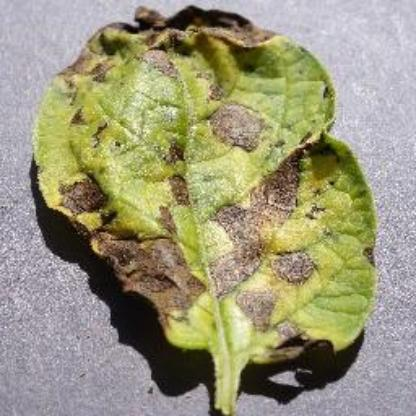Early-Blight: (28, 5, 392, 408)
